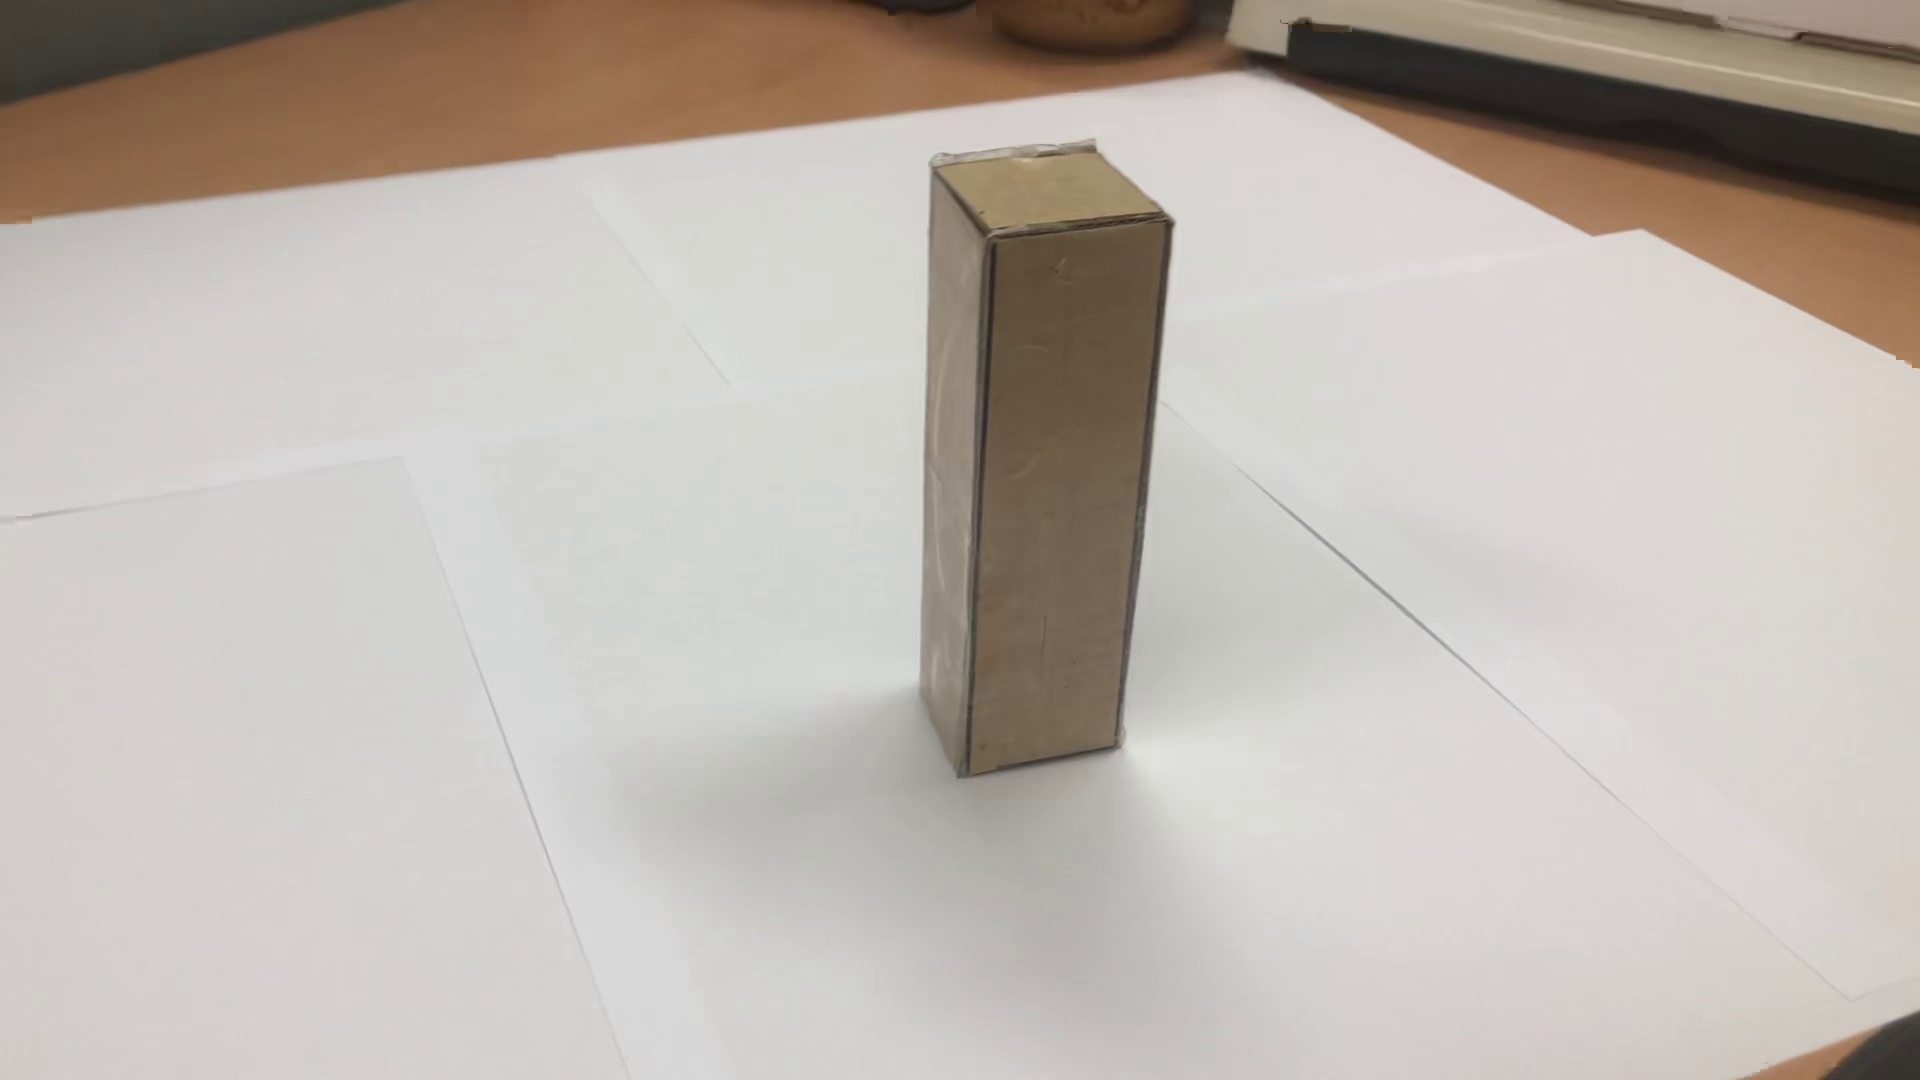box: (884, 123, 1193, 802)
